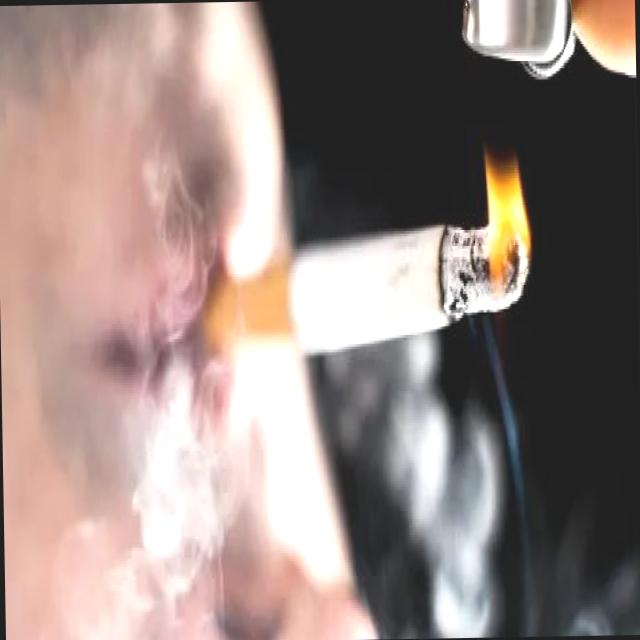cigarette: (198, 188, 540, 383)
